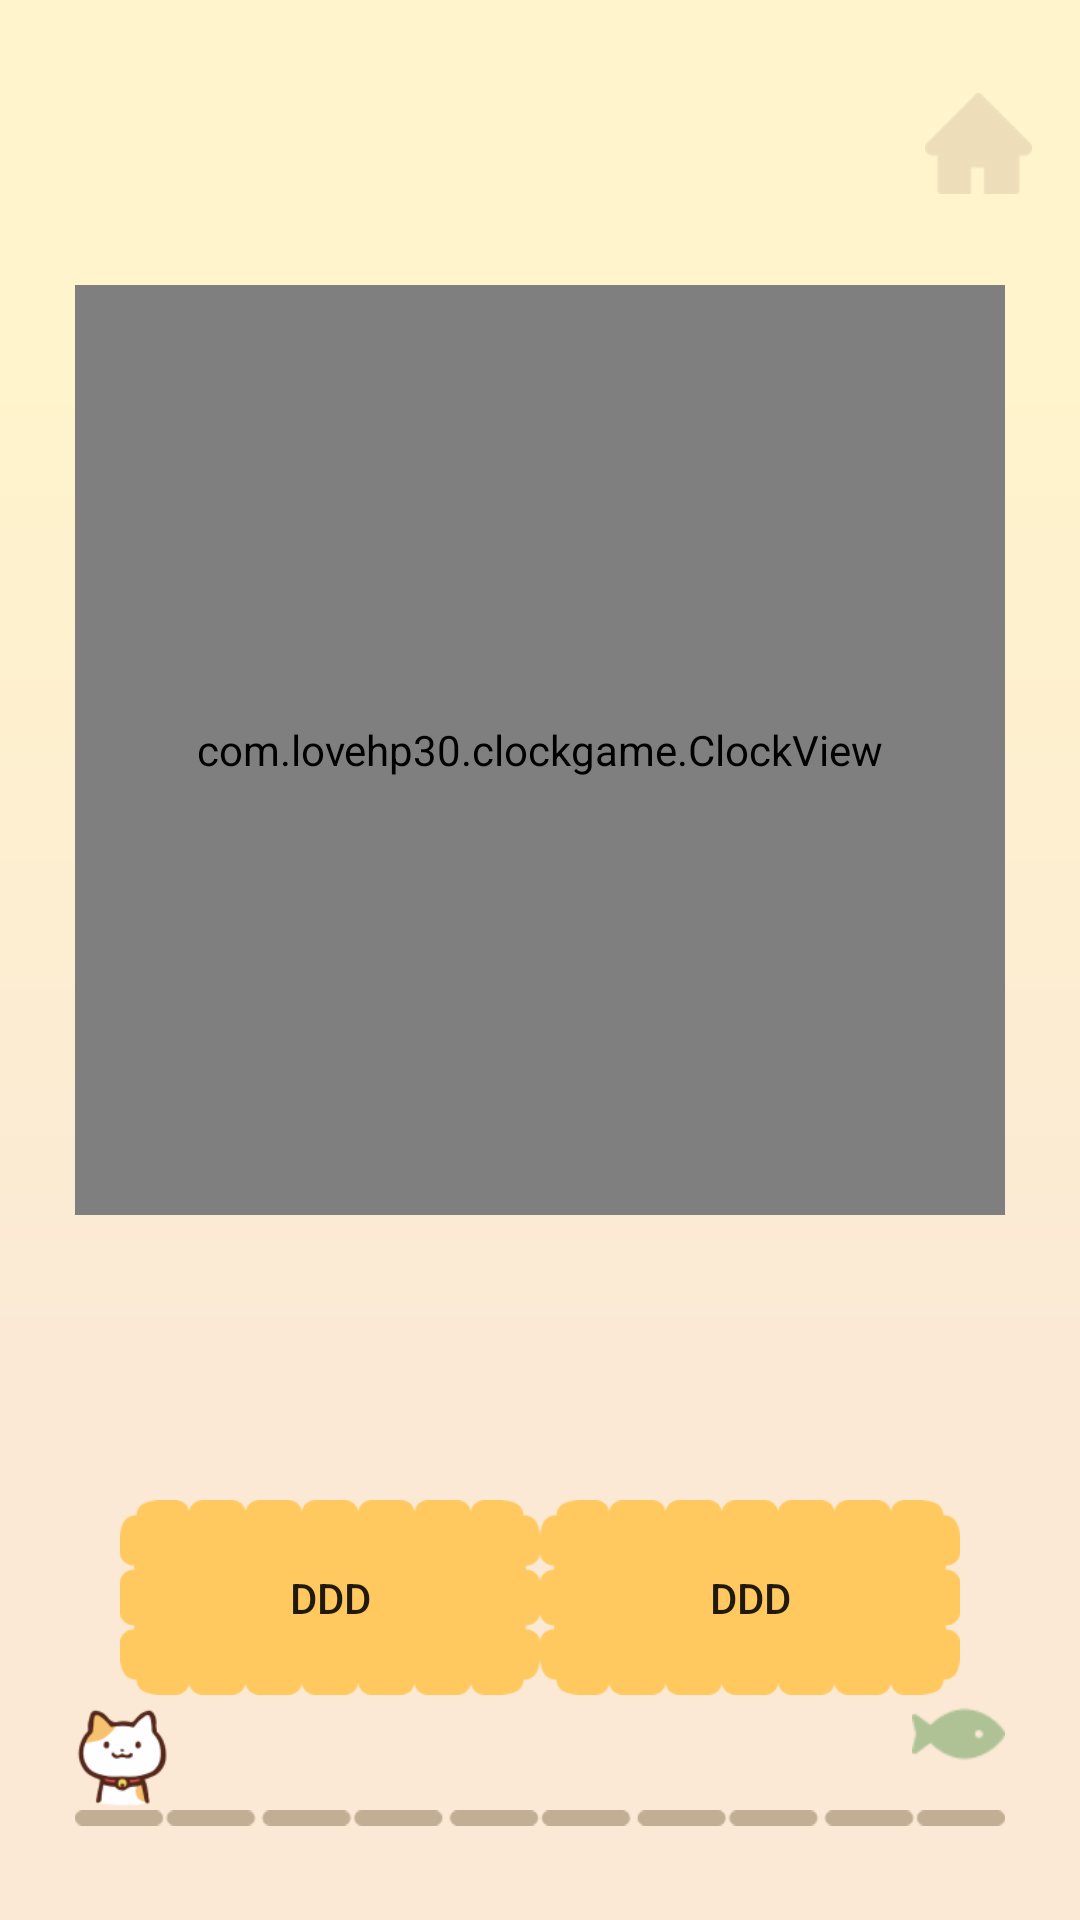

Point at icon controls on the screen. Image size 1080w x 1920h, points as [x,y].
move cat: [121,1767]
move fish: [958,1766]
